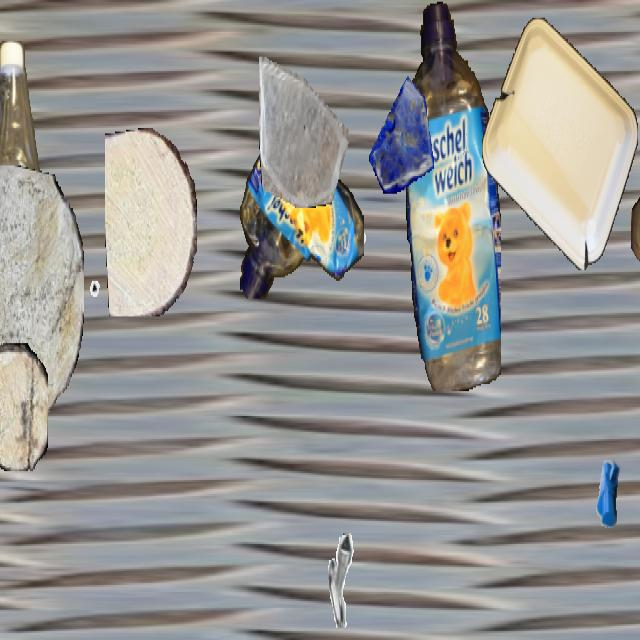glass: (259, 48, 349, 208), (368, 75, 434, 192)
metal: (429, 174, 489, 281), (578, 438, 636, 540), (328, 532, 382, 628), (330, 178, 370, 249), (86, 278, 126, 348)
plastic: (482, 18, 638, 270), (406, 2, 500, 389), (238, 137, 364, 297), (0, 41, 48, 393)
wood: (0, 166, 83, 436), (105, 128, 197, 316), (0, 343, 48, 471), (631, 196, 640, 263)
